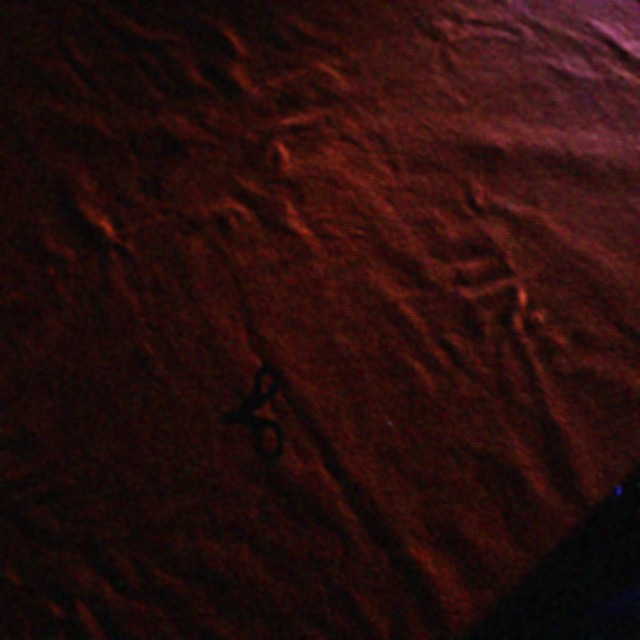scissors: (220, 363, 283, 460)
